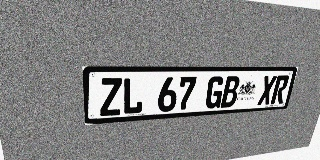6: (157, 77, 179, 112)
7: (176, 77, 197, 111)
B: (220, 76, 241, 108)
G: (204, 76, 225, 109)
L: (122, 77, 144, 115)
R: (270, 75, 290, 104)
X: (257, 75, 277, 105)
Z: (99, 78, 122, 116)
